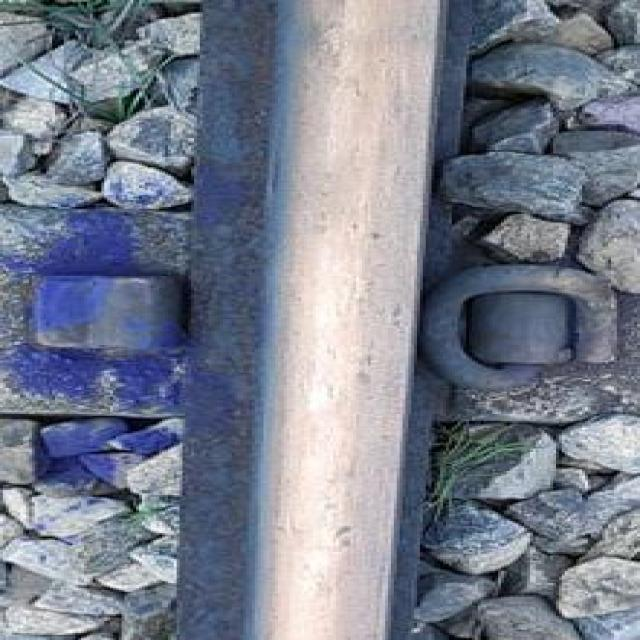Good Fasteners: (428, 250, 640, 406)
Missing Fastener: (0, 227, 210, 395)
